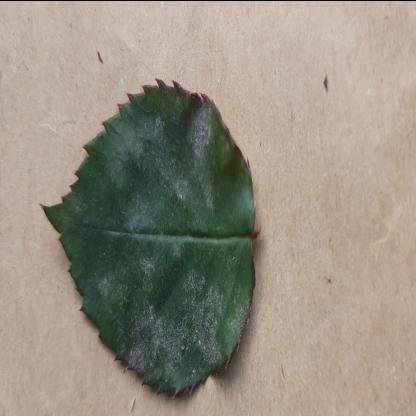powdery-mildew: (38, 76, 258, 394)
